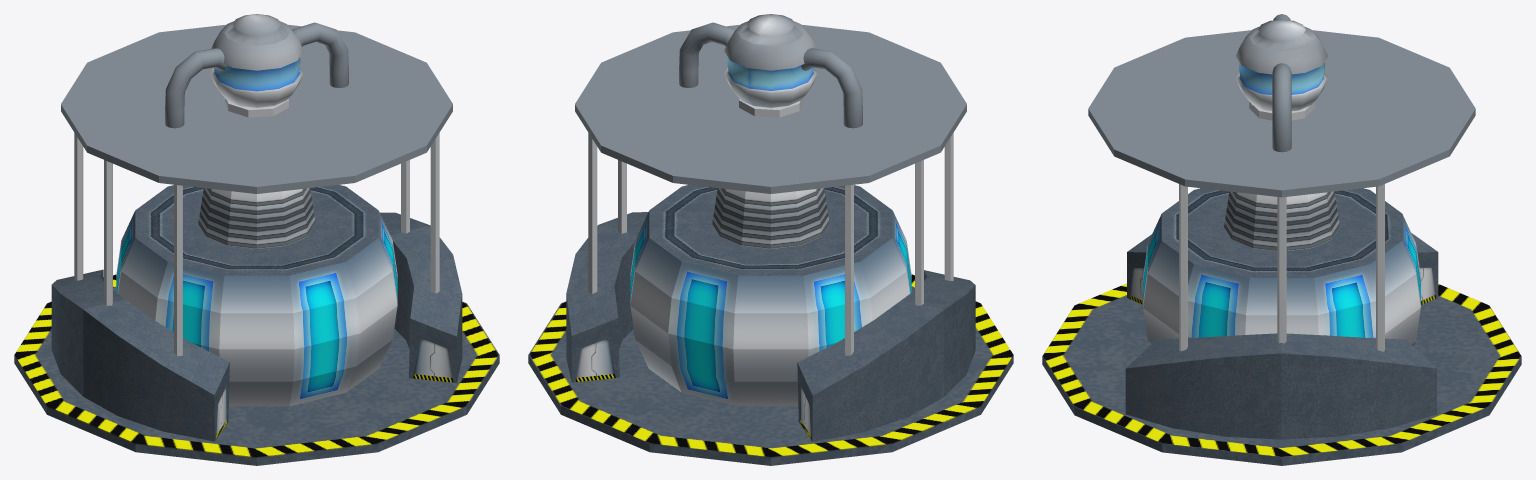
Rendered from Energy Repository.fbx.
The picture shows the model from 3 angles, left to right: view 1: azimuth 30°, elevation 25°; view 2: azimuth 150°, elevation 25°; view 3: azimuth 270°, elevation 25°; orthographic projection.
Parts seen in each view (by area): view 1: Roof, Main, Side (×2), Base, Sphere, Top, Piller_2 (×2), Pipe_1, Piller_1 (×2), Pipe_2, Piller_3, Sphere_Base; view 2: Roof, Main, Side (×2), Base, Sphere, Top, Piller_3 (×2), Pipe_1, Piller_1 (×2), Pipe_2, Piller_2, Sphere_Base; view 3: Roof, Side (×2), Main, Base, Sphere, Top, Pipe_2, Piller_3, Piller_2, Piller_1.
Boxes of the visible parts, box(x1,y1,x2,y2) form: Roof: box(61, 24, 452, 193); Main: box(116, 185, 397, 406); Side (×2): box(51, 212, 462, 441); Base: box(14, 274, 499, 465); Sphere: box(210, 14, 303, 107); Top: box(198, 188, 315, 248); Piller_2 (×2): box(74, 133, 439, 293); Pipe_1: box(165, 48, 226, 128); Piller_1 (×2): box(104, 160, 409, 305); Pipe_2: box(292, 22, 348, 87); Piller_3: box(174, 184, 182, 355); Sphere_Base: box(225, 98, 288, 117); Roof: box(575, 24, 966, 193); Main: box(630, 185, 911, 406); Side (×2): box(566, 212, 975, 441); Base: box(528, 274, 1013, 465); Sphere: box(724, 14, 817, 107); Top: box(712, 188, 829, 248); Piller_3 (×2): box(588, 133, 953, 293); Pipe_1: box(801, 48, 862, 128); Piller_1 (×2): box(618, 160, 923, 305); Pipe_2: box(679, 22, 735, 87); Piller_2: box(845, 184, 853, 355); Sphere_Base: box(739, 98, 802, 117); Roof: box(1088, 30, 1475, 197); Side (×2): box(1125, 233, 1438, 439); Main: box(1143, 188, 1420, 345); Base: box(1042, 283, 1521, 465); Sphere: box(1236, 19, 1327, 110); Top: box(1224, 191, 1339, 250); Pipe_2: box(1272, 63, 1291, 152); Piller_3: box(1376, 184, 1384, 351); Piller_2: box(1179, 184, 1187, 351); Piller_1: box(1277, 197, 1286, 343).
Size of the model in its own units: 10 by 7.85 by 10.
